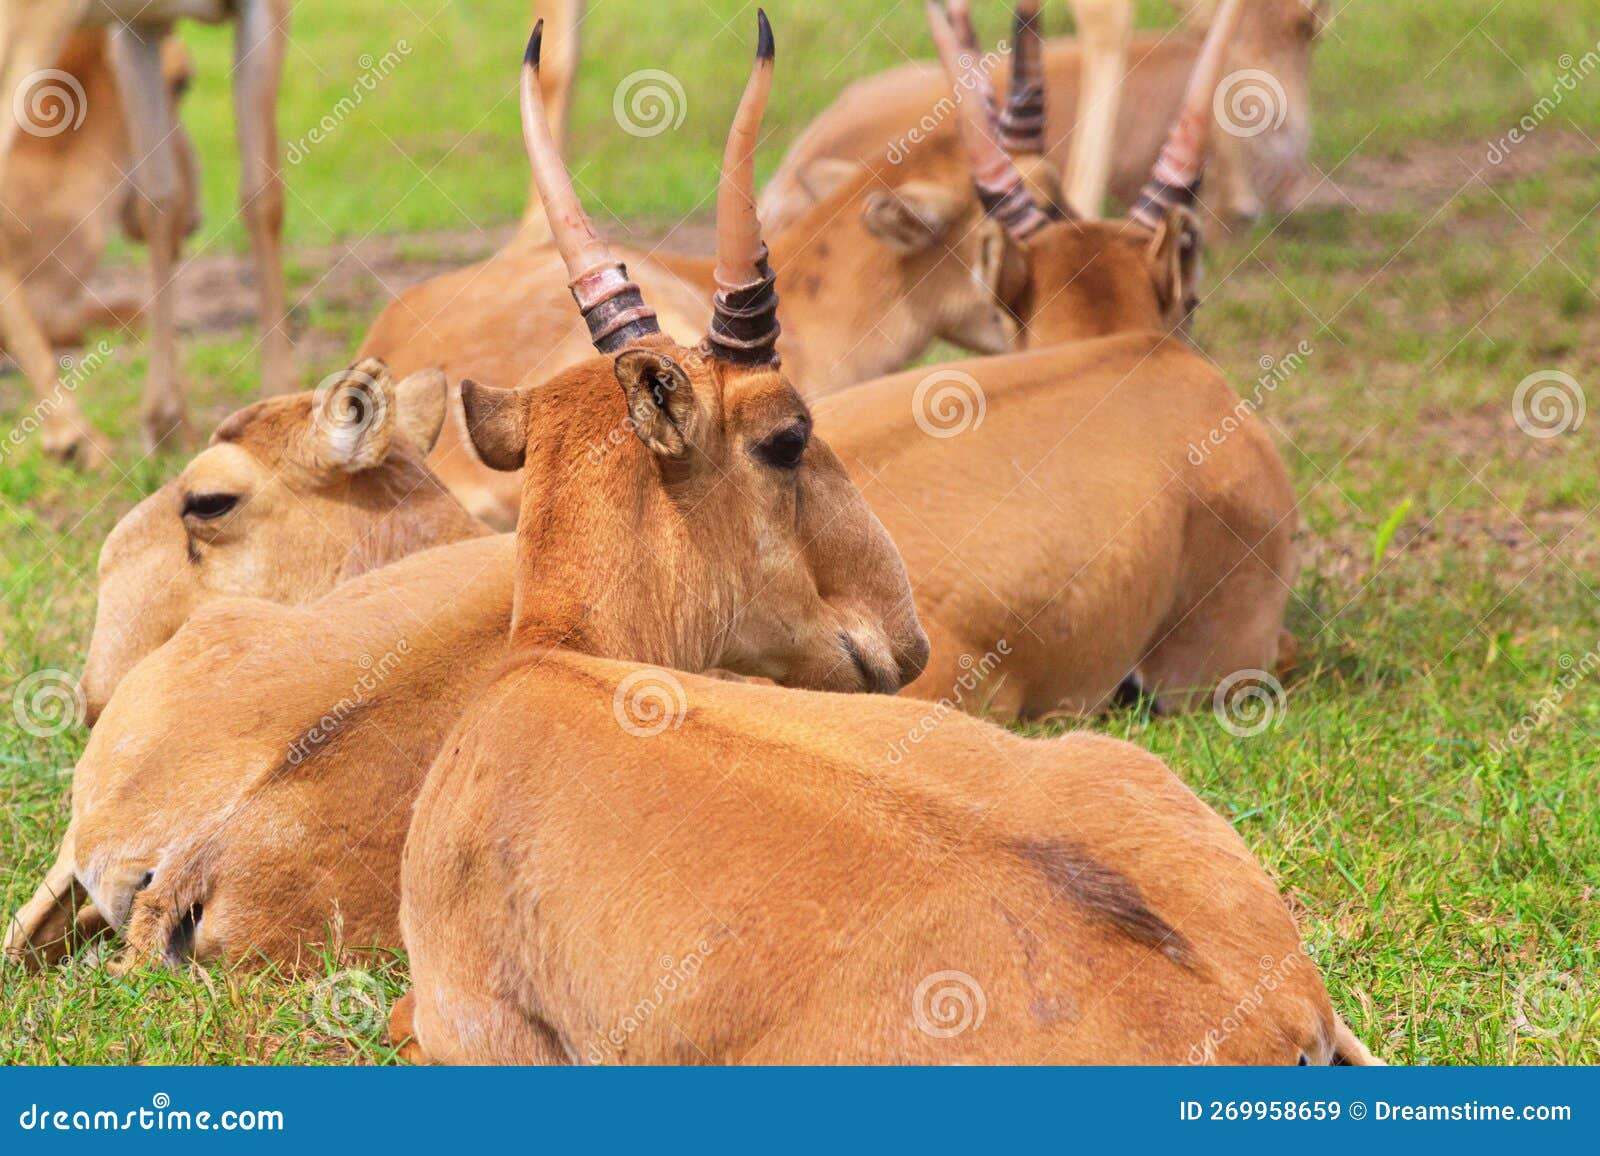saiga: (443, 29, 1337, 1139)
